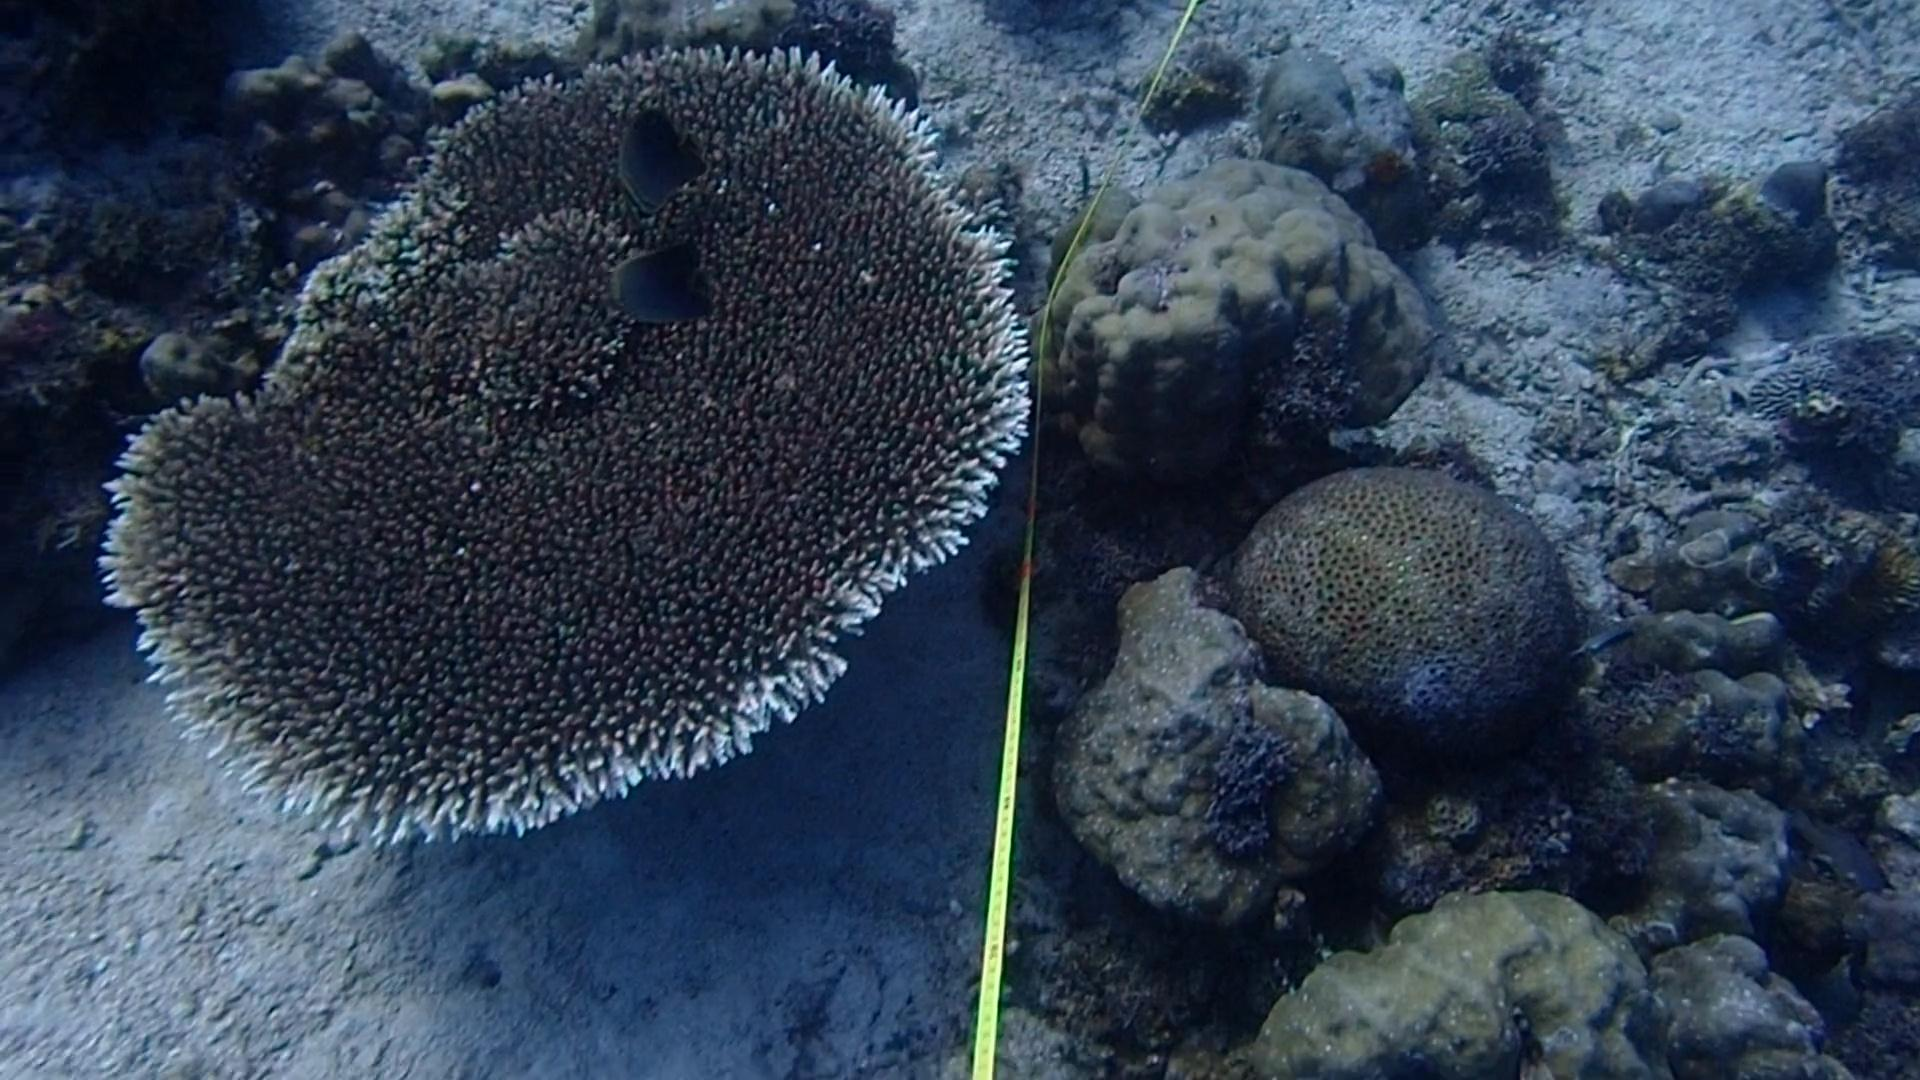Dark Blue Dory: (585, 90, 717, 208), (585, 228, 724, 332)
Light Fish: (1573, 603, 1651, 675)
